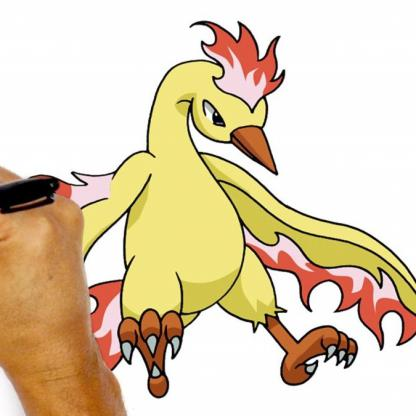Moltres: (81, 7, 416, 416)
